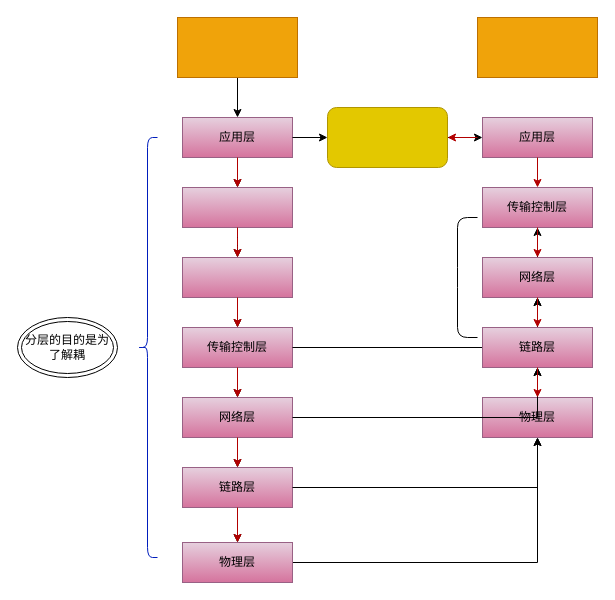
This 615x600 diagram has some shape labels left out. The shapes that lost their labels are listed below. From the top down, each one's centre as x and y in pixels, then its label:
[237,47]: OSI 7层模型
[537,47]: TCP/IP协议
[387,137]: HTTP SSH 协议 .....
[237,207]: 表示层
[237,277]: 会话层
